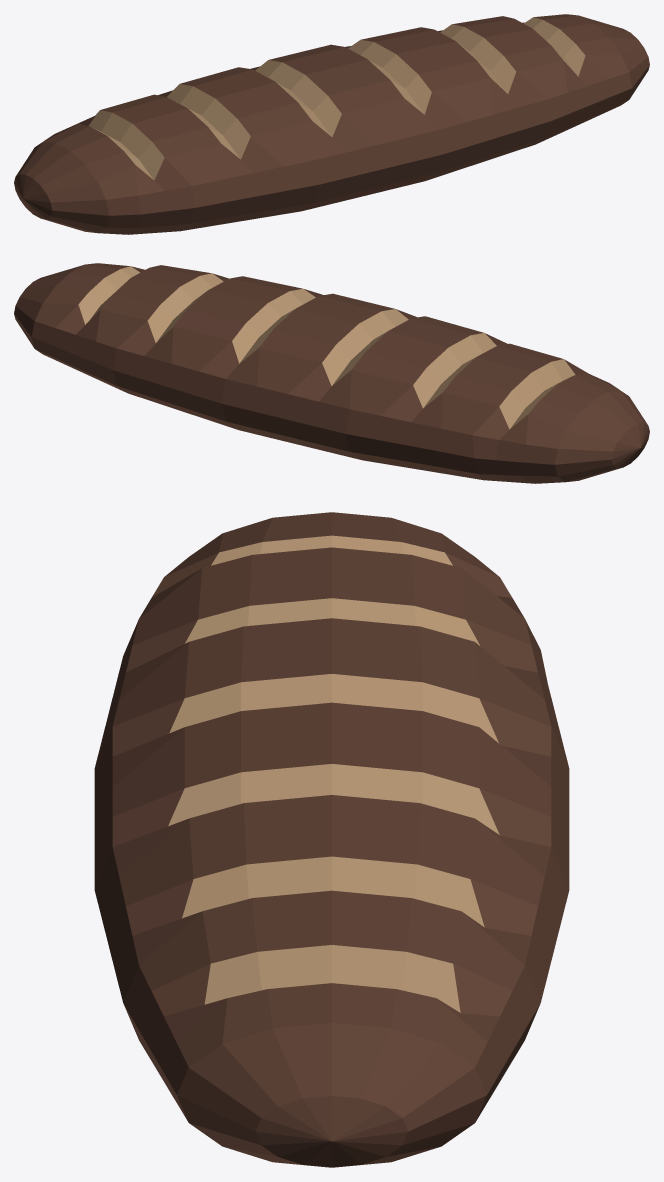
File: Bread02.fbx
3 views of the same model, one above another, from view 1: azimuth 30°, elevation 25°; view 2: azimuth 150°, elevation 25°; view 3: azimuth 270°, elevation 25° (orthographic). The views are drawn at different scales.
Parts seen in each view (by area): view 1: Sphere.004; view 2: Sphere.004; view 3: Sphere.004.
Part boxes in pixels (<box>): Sphere.004: <box>14,14,649,234</box>; Sphere.004: <box>14,263,649,483</box>; Sphere.004: <box>94,512,569,1167</box>.
Bounding box in the file's own units: 79.59 × 13.68 × 26.49.
